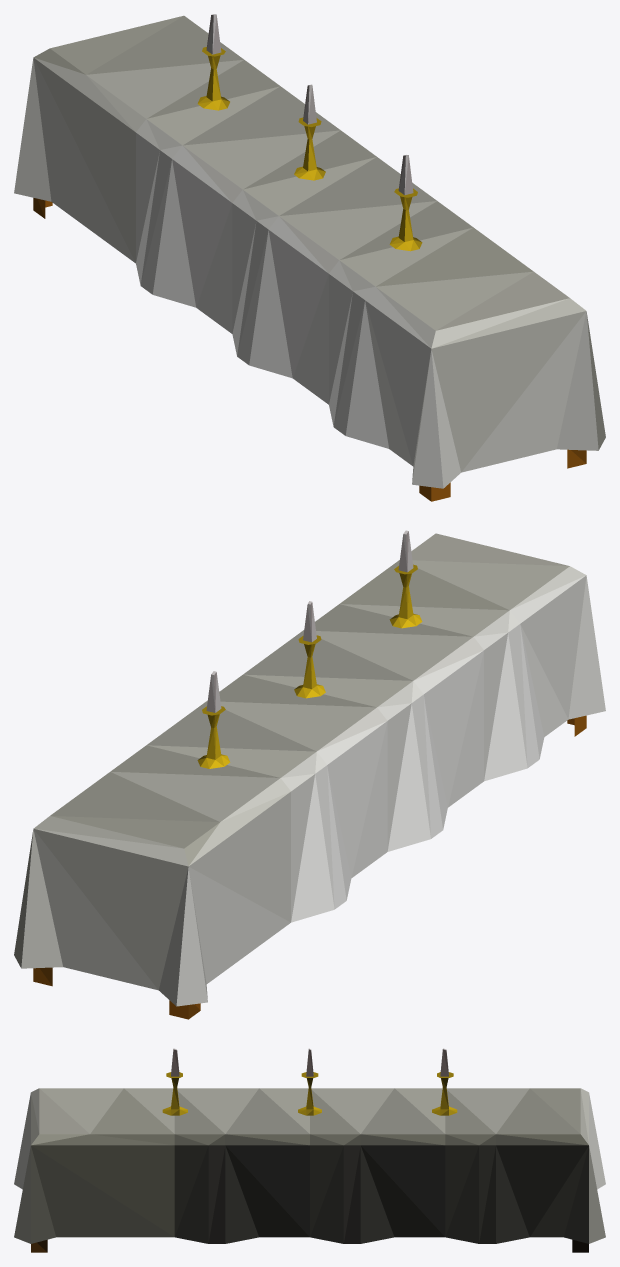
File: fancy_table.obj
The picture shows the model from 3 angles, top to bottom: view 1: azimuth 30°, elevation 25°; view 2: azimuth 150°, elevation 25°; view 3: azimuth 270°, elevation 25°; orthographic projection. The views are drawn at different scales.
Visible parts, largest first — view 1: Object Table 2026-09-21_11-26-59; view 2: Object Table 2026-09-21_11-26-59; view 3: Object Table 2026-09-21_11-26-59.
Part boxes in pixels (<box>): Object Table 2026-09-21_11-26-59: <box>14,14,605,501</box>; Object Table 2026-09-21_11-26-59: <box>14,530,605,1019</box>; Object Table 2026-09-21_11-26-59: <box>14,1048,605,1252</box>.
Bounding box in the file's own units: 130 × 162 × 490.
